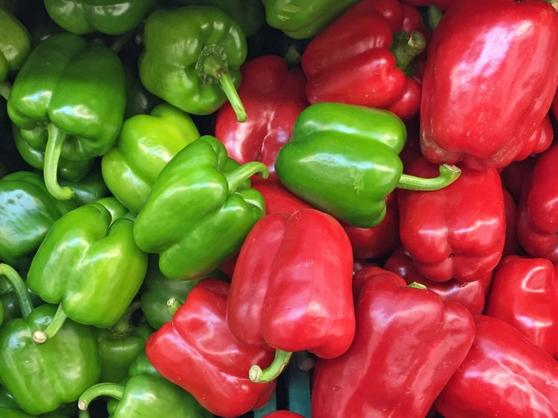pepper: (229, 204, 357, 383)
